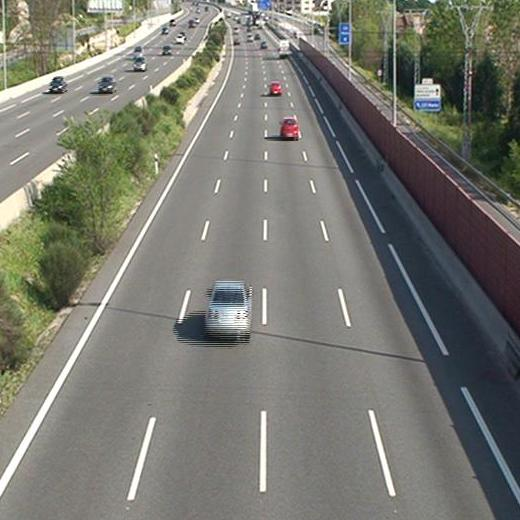car: (205, 282, 249, 334), (280, 118, 299, 137), (269, 82, 282, 94)
small-truck: (279, 40, 289, 57)
